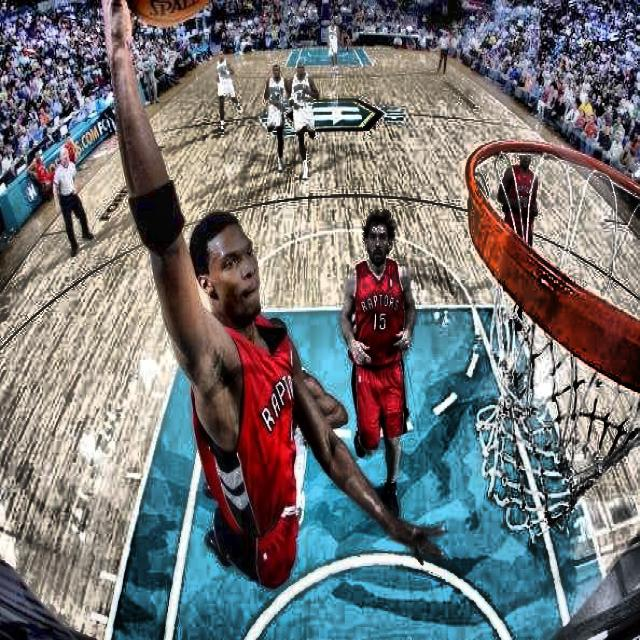board: (458, 140, 640, 542)
